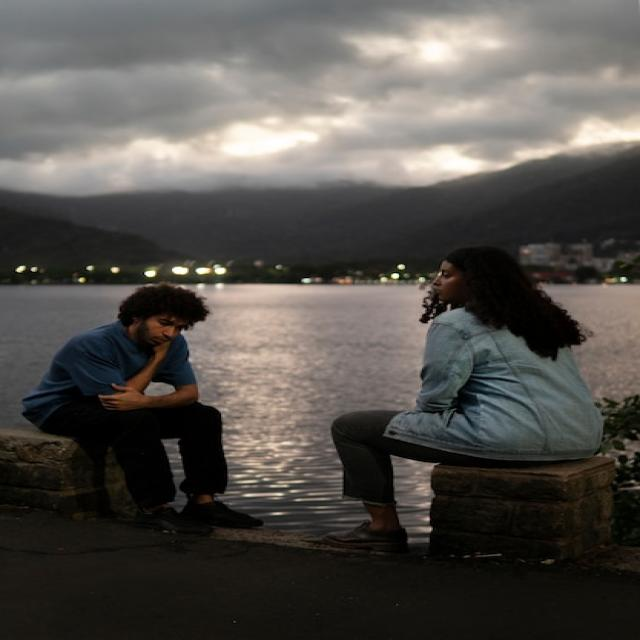Person: (326, 243, 604, 553), (23, 284, 265, 539)
